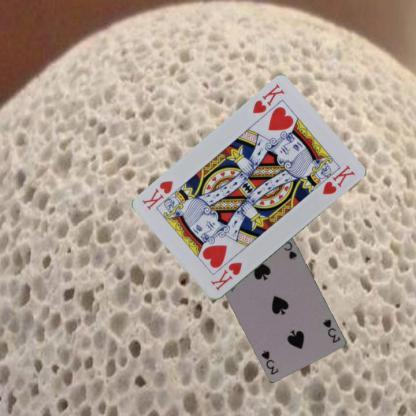3s: (320, 316, 342, 344)
Kh: (207, 259, 244, 293), (250, 82, 286, 116)
